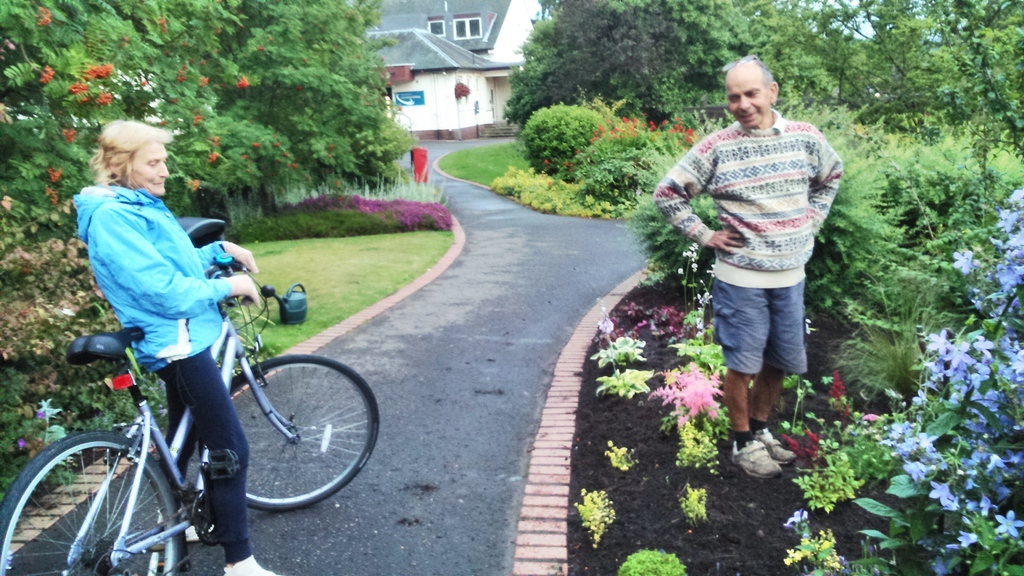Bike: (47, 269, 365, 576)
